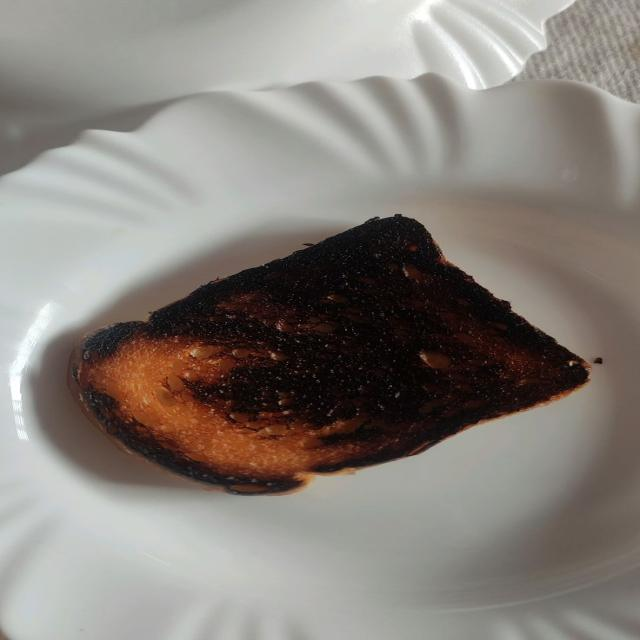toast bread: (70, 215, 589, 495)
